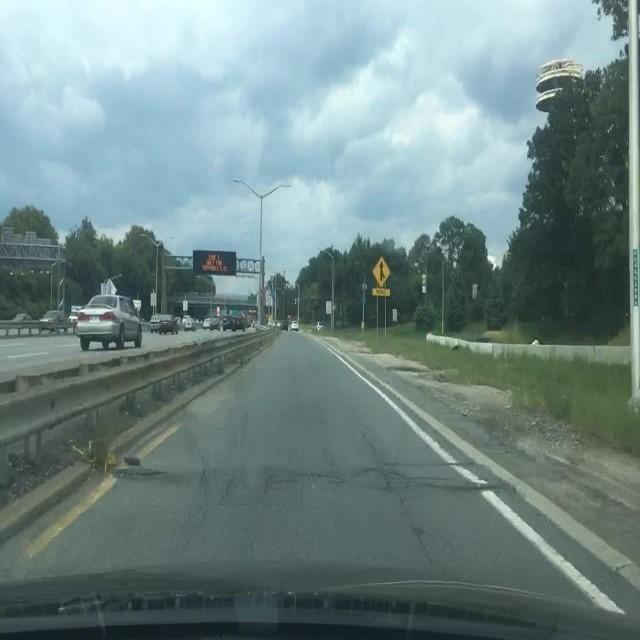normal: (74, 296, 142, 351), (150, 314, 179, 335), (180, 317, 201, 334), (202, 315, 221, 330)
